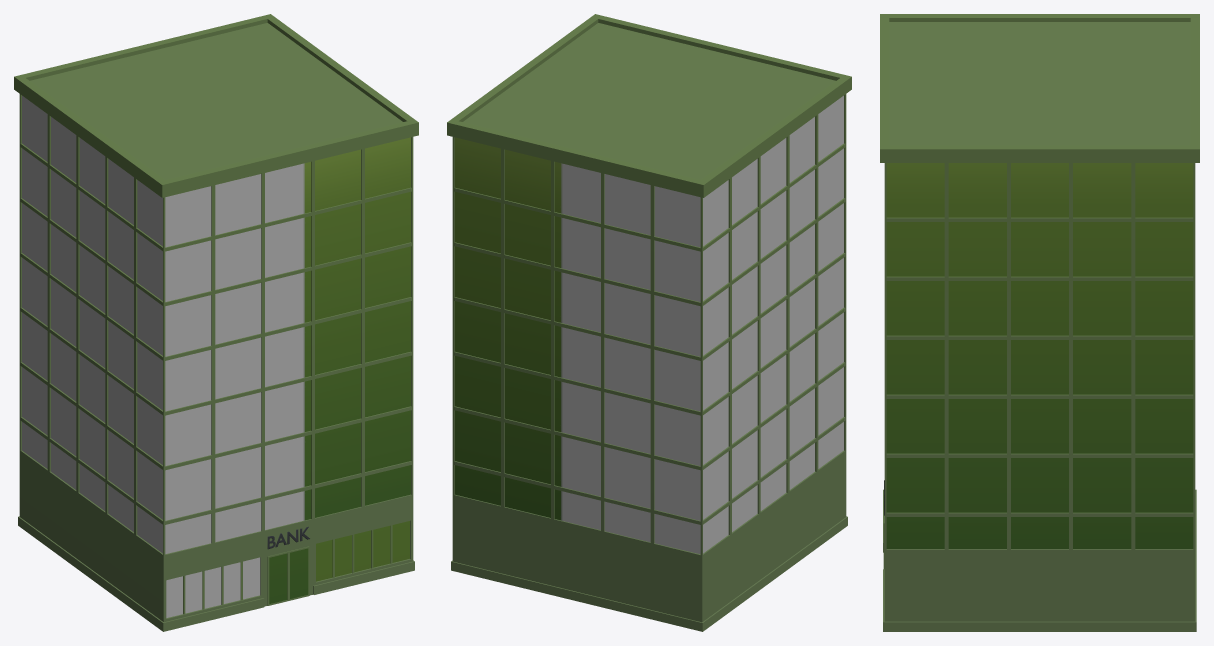
The model's file is Bank_01.fbx.
The picture shows the model from 3 angles, left to right: view 1: azimuth 30°, elevation 25°; view 2: azimuth 150°, elevation 25°; view 3: azimuth 270°, elevation 25°; orthographic projection. The views are drawn at different scales.
Parts seen in each view (by area): view 1: Bank_01; view 2: Bank_01; view 3: Bank_01.
Part boxes in pixels (bbox=[...]): Bank_01: bbox=[14, 14, 418, 631]; Bank_01: bbox=[447, 14, 851, 631]; Bank_01: bbox=[880, 14, 1199, 631].
Size of the model in its own units: 11.98 by 20 by 11.98.
